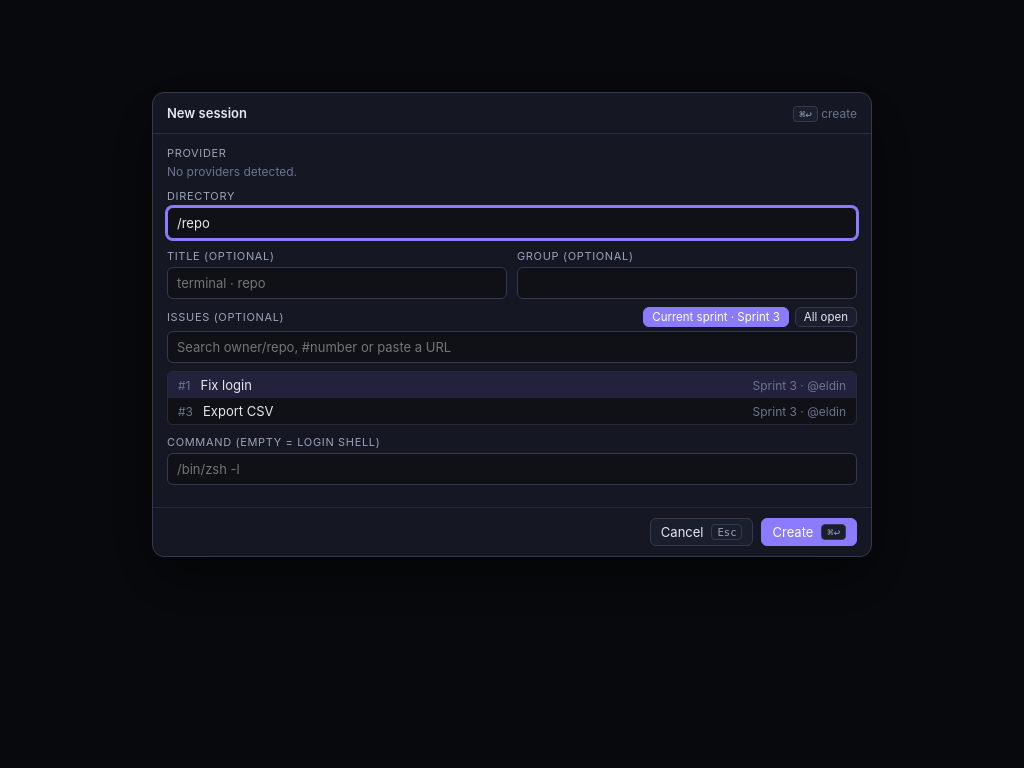
Test: accepts an issue number or a pasted URL, and can be removed
This screenshot has width=1024, height=768.
Type "#77" into the field labelled "Issues (optional)". click: [512, 347]
box: top-left (167, 331), bottom-right (857, 363)
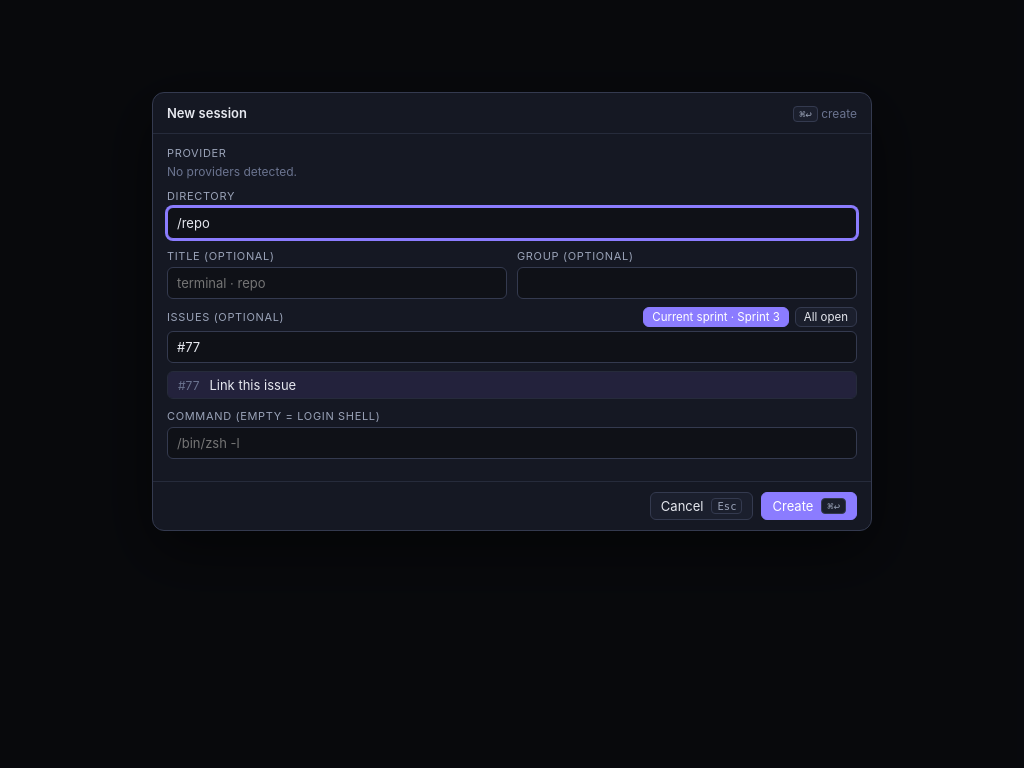
Replace the text in the field labelled "Issues (optional)" with "https://github.com/other/repo/issues/5". click: [512, 347]
box: top-left (167, 331), bottom-right (857, 363)
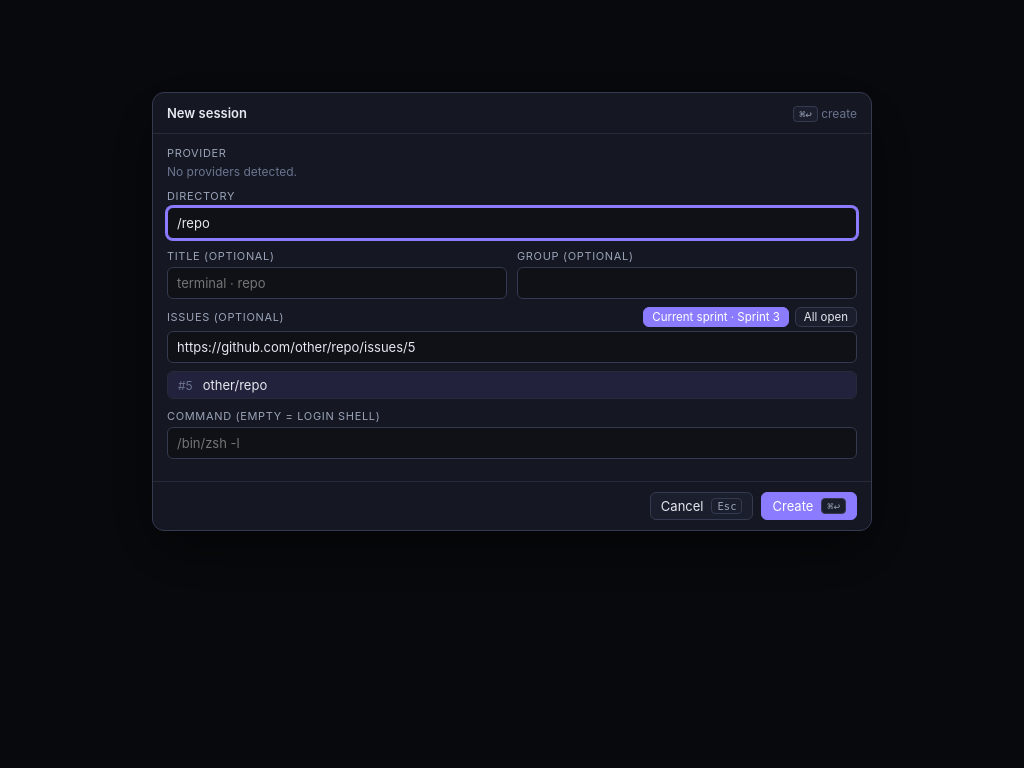
Press Enter in the field labelled "Issues (optional)", box top-left (167, 331), bottom-right (857, 363)
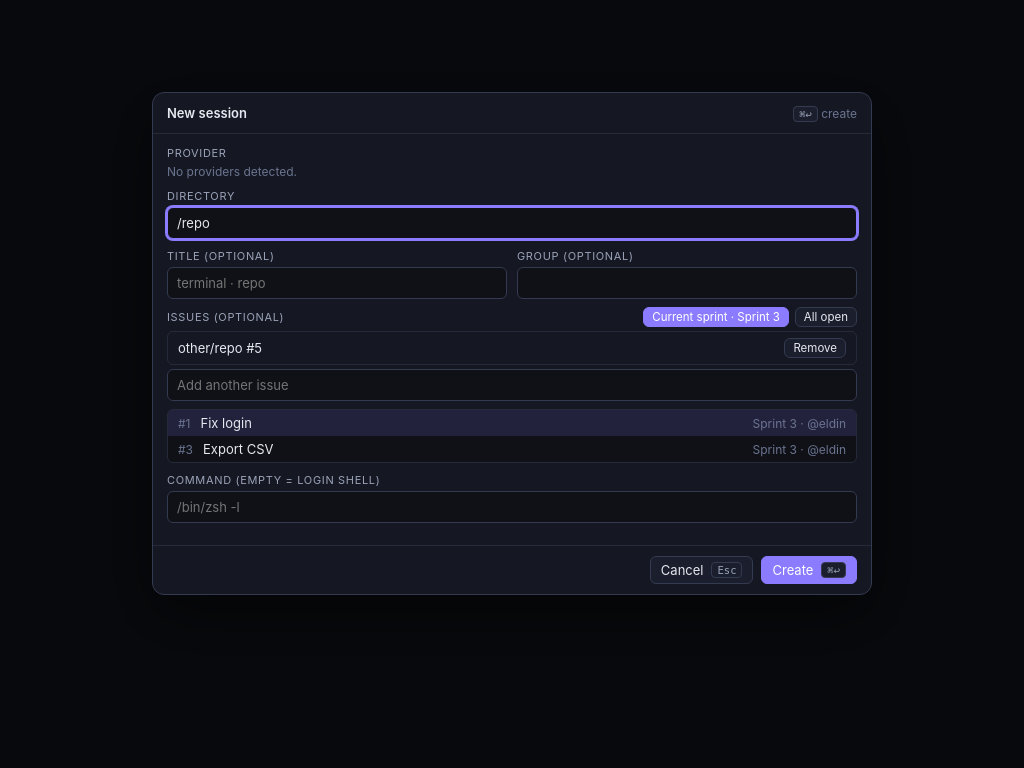
Result: the field labelled "Issues (optional)" is empty at top-left (167, 369), bottom-right (857, 401)
Click the button with aria-label "Remove other/repo #5". click: [815, 348]
box: top-left (784, 338), bottom-right (846, 358)
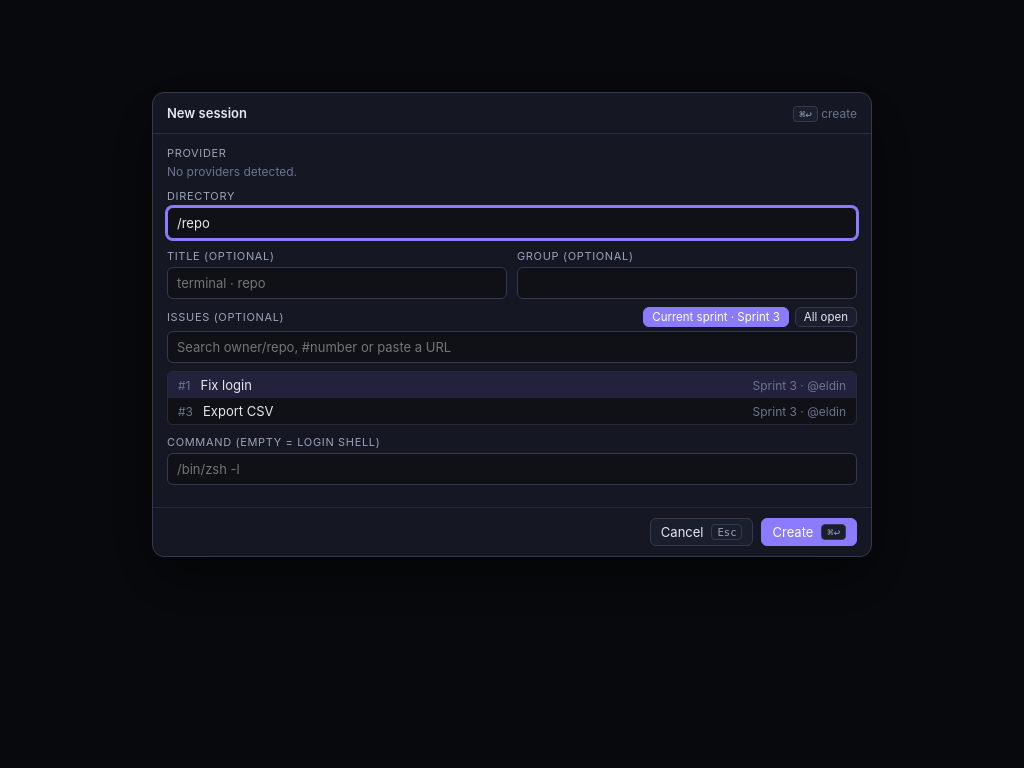
Result: the text "other/repo #5" is gone
